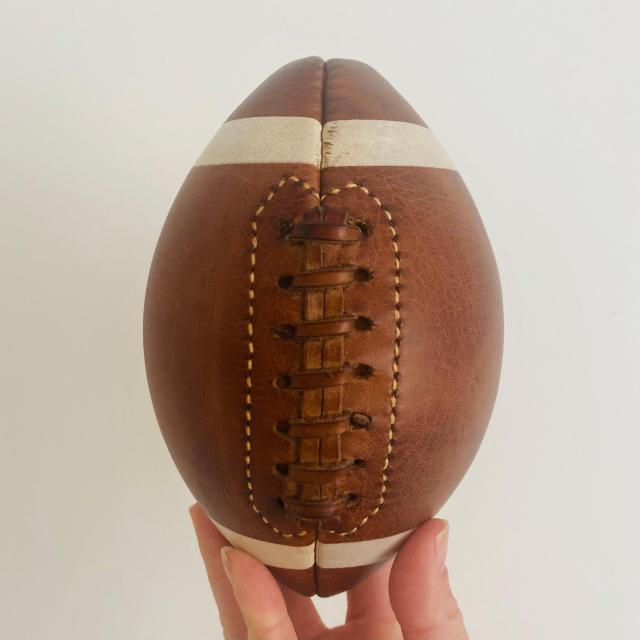ball: (136, 48, 517, 580)
